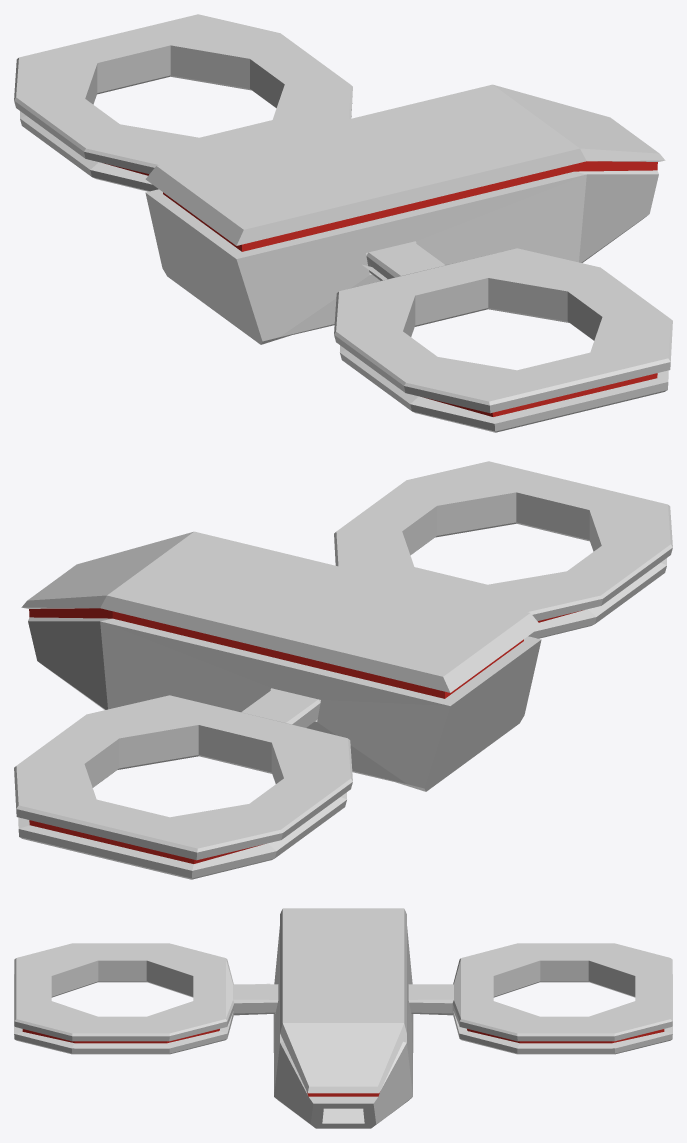
Rendered from drone.fbx.
3 renders of one model, top to bottom at view 1: azimuth 30°, elevation 25°; view 2: azimuth 150°, elevation 25°; view 3: azimuth 270°, elevation 25°, orthographic. The views are drawn at different scales.
Parts seen in each view (by area): view 1: Cube, Cube.001, Cube.002; view 2: Cube, Cube.002, Cube.001; view 3: Cube, Cube.001, Cube.002.
Boxes of the visible parts, box(x1,y1,x2,y2) form: Cube: box(145, 84, 665, 344); Cube.001: box(334, 241, 672, 432); Cube.002: box(14, 14, 352, 191); Cube: box(21, 531, 541, 791); Cube.002: box(14, 688, 352, 879); Cube.001: box(334, 461, 672, 638); Cube: box(273, 908, 413, 1128); Cube.001: box(14, 943, 278, 1054); Cube.002: box(408, 943, 672, 1054).
Size of the model in its own units: 152 by 38.98 by 278.
